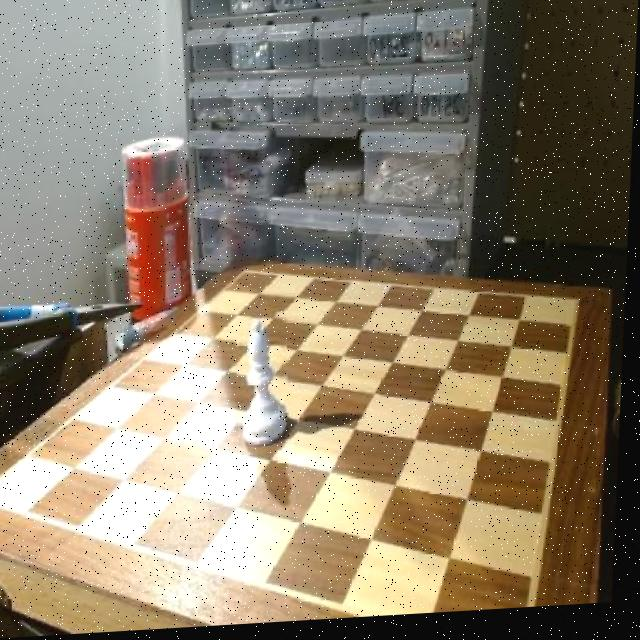black-rook: (236, 316, 294, 460)
